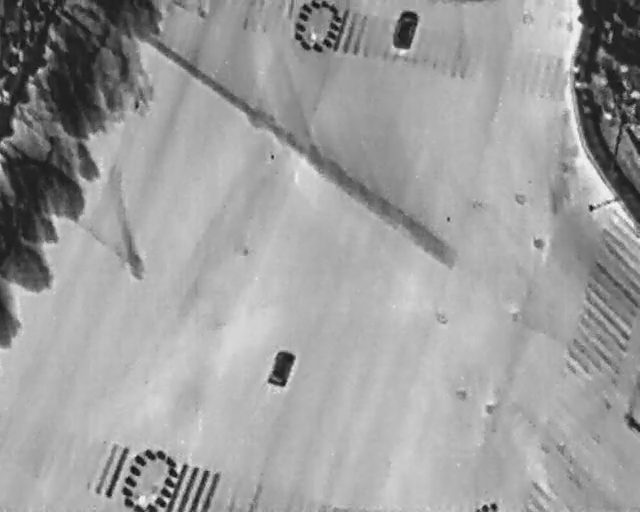Car: (266, 348, 297, 389), (390, 8, 418, 51)
